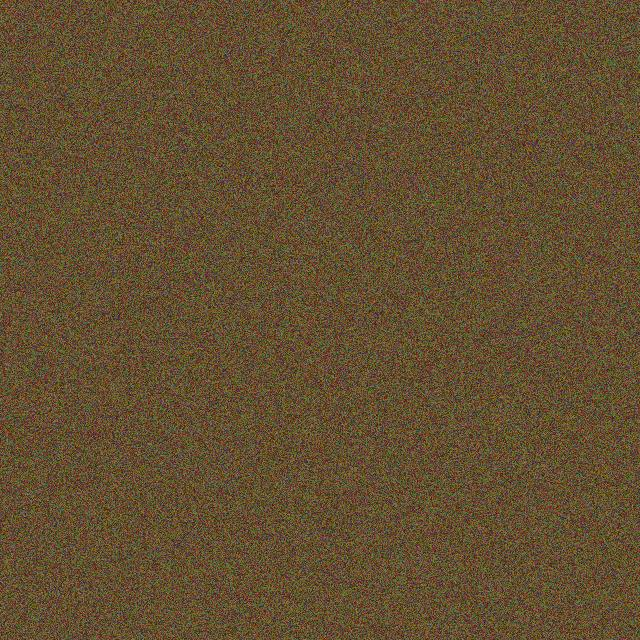metal_debris: (388, 416, 507, 508)
